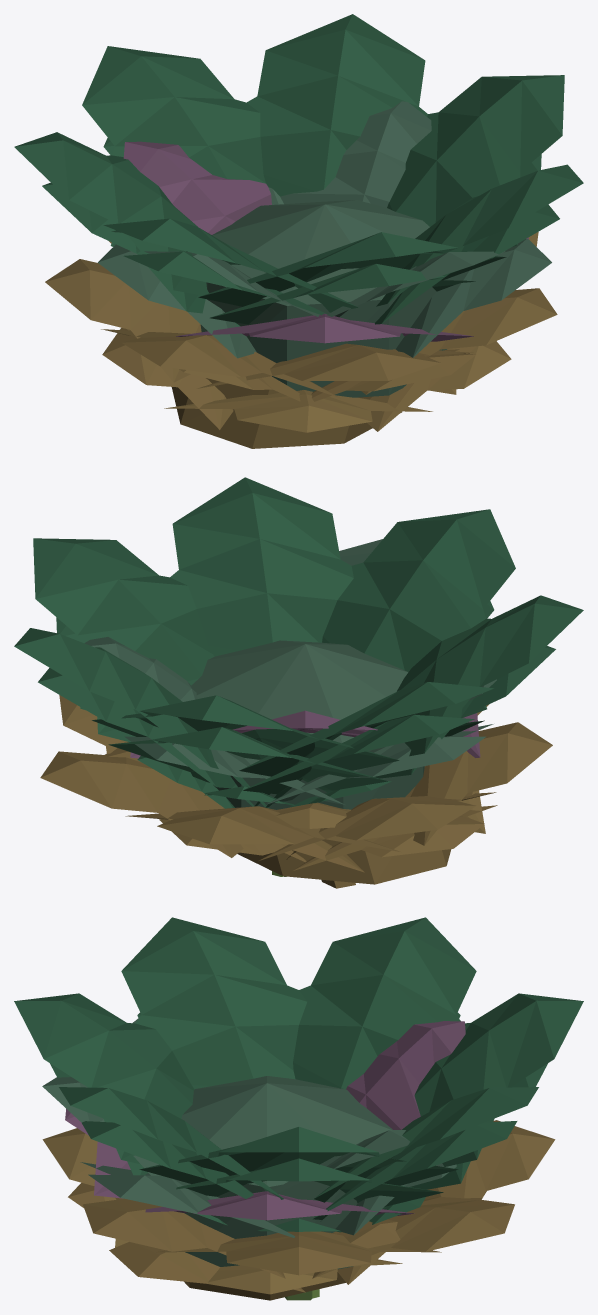
The model's file is winter_kale.glb.
The picture shows the model from 3 angles, top to bottom: view 1: azimuth 30°, elevation 25°; view 2: azimuth 150°, elevation 25°; view 3: azimuth 270°, elevation 25°; orthographic projection.
Parts seen in each view (by area): view 1: stage3, dead, stage2; view 2: stage3, dead, stage2, stage1; view 3: stage3, dead, stage2, stage1.
Part boxes in pixels (left/top/right/bottom): stage3: left=14, top=14, right=583, bottom=397; dead: left=45, top=232, right=557, bottom=448; stage2: left=42, top=138, right=559, bottom=324; stage3: left=14, top=477, right=583, bottom=876; dead: left=40, top=695, right=552, bottom=888; stage2: left=38, top=601, right=555, bottom=807; stage1: left=137, top=756, right=391, bottom=808; stage3: left=14, top=917, right=583, bottom=1300; dead: left=42, top=1120, right=555, bottom=1300; stage2: left=50, top=1012, right=547, bottom=1221; stage1: left=196, top=1197, right=425, bottom=1232.
Bounding box in the file's own units: 0.6083 × 0.326 × 0.624.
